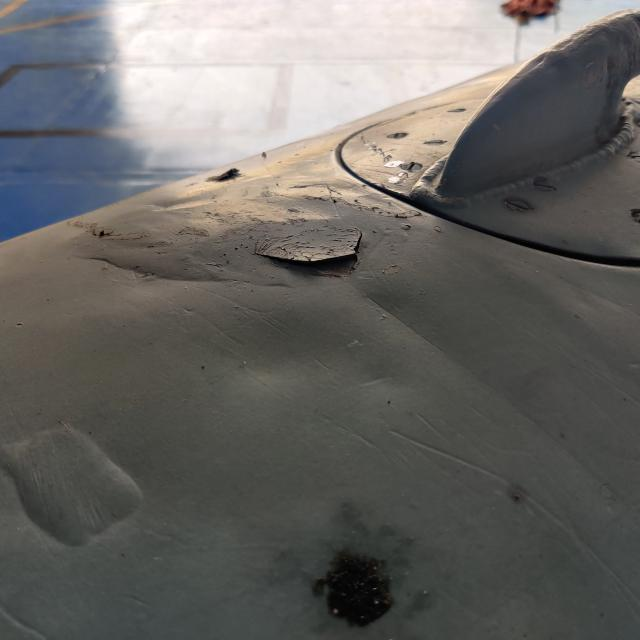crack: (239, 203, 382, 290)
dent: (207, 288, 356, 410)
